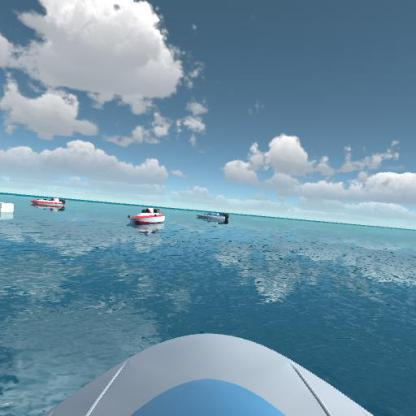usv1: (195, 206, 236, 228)
usv3: (126, 205, 172, 230), (29, 191, 70, 211)
